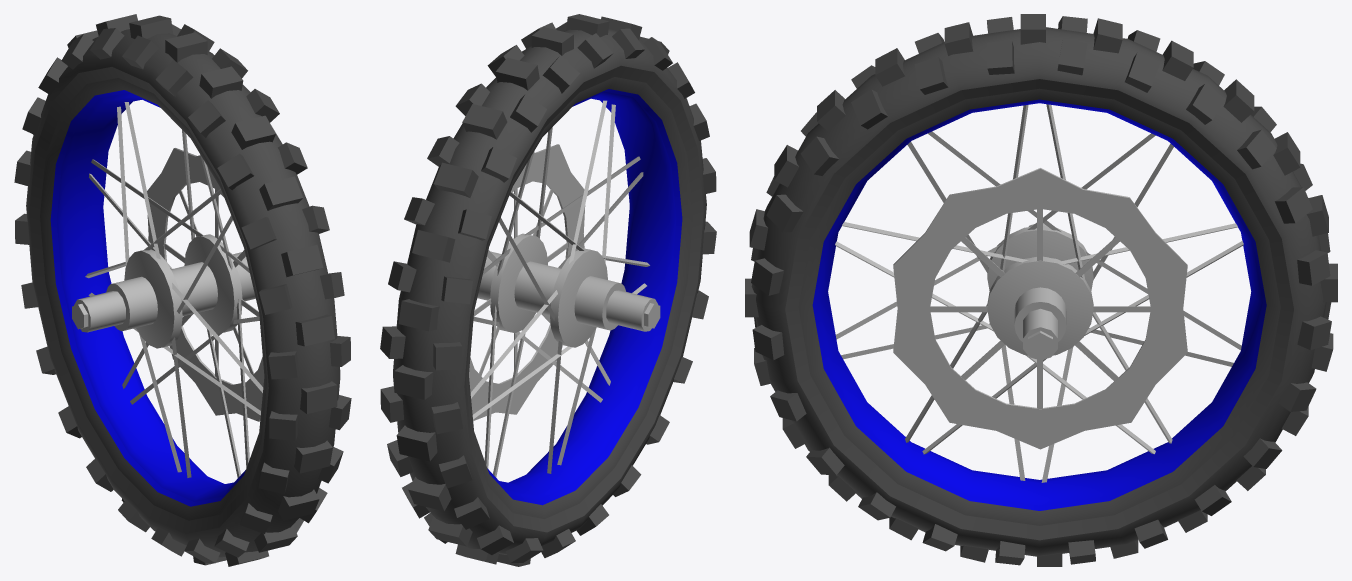
Rendered from bike_motard_wheel_front.fbx.
3 views of the same model, side by side, from view 1: azimuth 30°, elevation 25°; view 2: azimuth 150°, elevation 25°; view 3: azimuth 270°, elevation 25° (orthographic). The views are drawn at different scales.
Visible parts, largest first — view 1: polySurface220; view 2: polySurface220; view 3: polySurface220.
Boxes of the visible parts, left/top/right/bottom form: polySurface220: left=14, top=14, right=351, bottom=566; polySurface220: left=380, top=14, right=716, bottom=566; polySurface220: left=745, top=14, right=1337, bottom=566.
Bounding box in the file's own units: 27.14 × 62.21 × 62.21.
